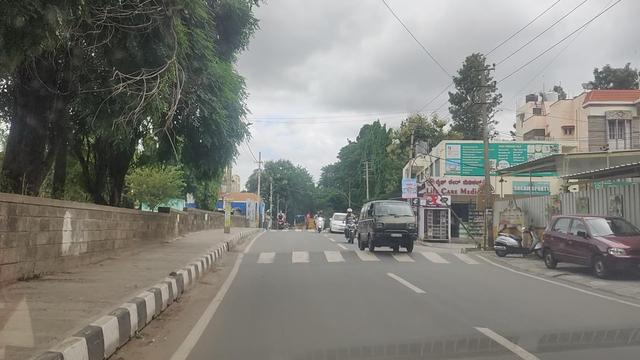LMV: (356, 200, 414, 249)
SpeedBump: (232, 247, 477, 268)
